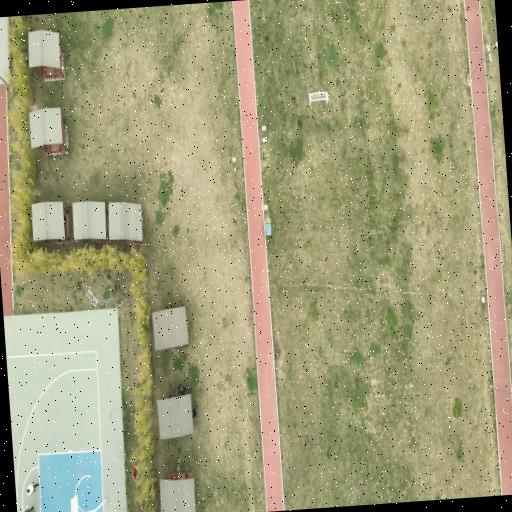person: (26, 483, 38, 495), (176, 385, 184, 395), (131, 467, 137, 480), (24, 506, 33, 511), (192, 409, 196, 418), (167, 394, 174, 398)
